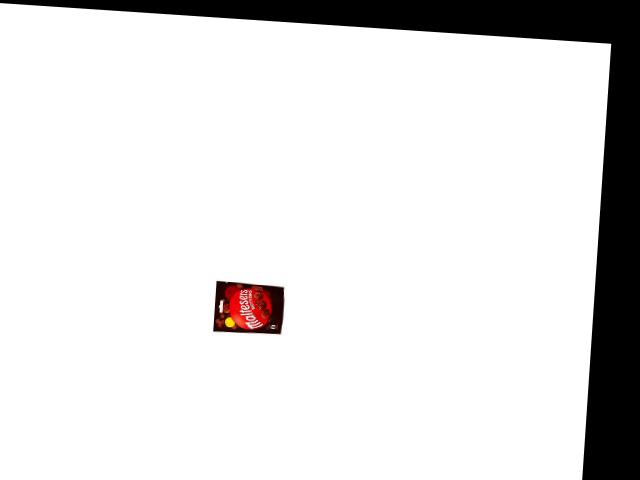chocolate: (211, 279, 286, 336)
